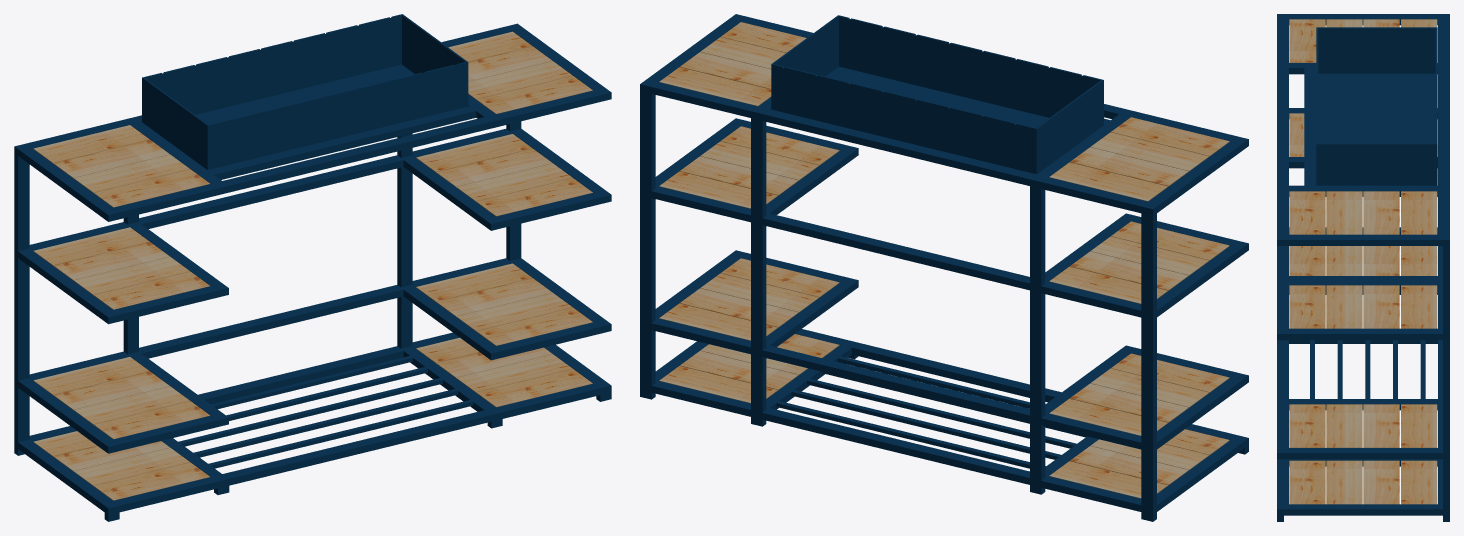
The picture shows the model from 3 angles, left to right: view 1: azimuth 30°, elevation 25°; view 2: azimuth 150°, elevation 25°; view 3: azimuth 270°, elevation 25°; orthographic projection. The views are drawn at different scales.
Parts seen in each view (by area): view 1: geometry-lumionModel, geometry-lumionModel.001; view 2: geometry-lumionModel, geometry-lumionModel.001; view 3: geometry-lumionModel, geometry-lumionModel.001.
Boxes of the visible parts, x1,y1,x2,y2 form: geometry-lumionModel: (14,14,611,521); geometry-lumionModel.001: (33,31,592,500); geometry-lumionModel: (640,14,1248,521); geometry-lumionModel.001: (659,22,1229,498); geometry-lumionModel: (1277,14,1449,521); geometry-lumionModel.001: (1289,19,1437,504).
Size of the model in its own units: 1.55 by 1.03 by 0.5.
Materials: 3 (1 with a texture image).
